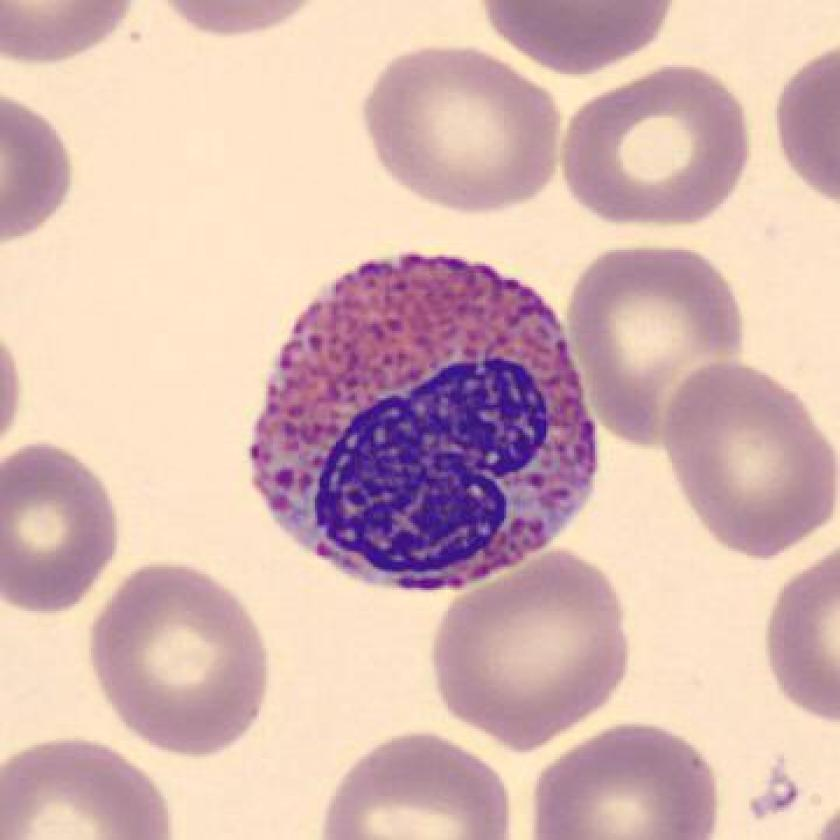eosinophil: (230, 240, 612, 608)
